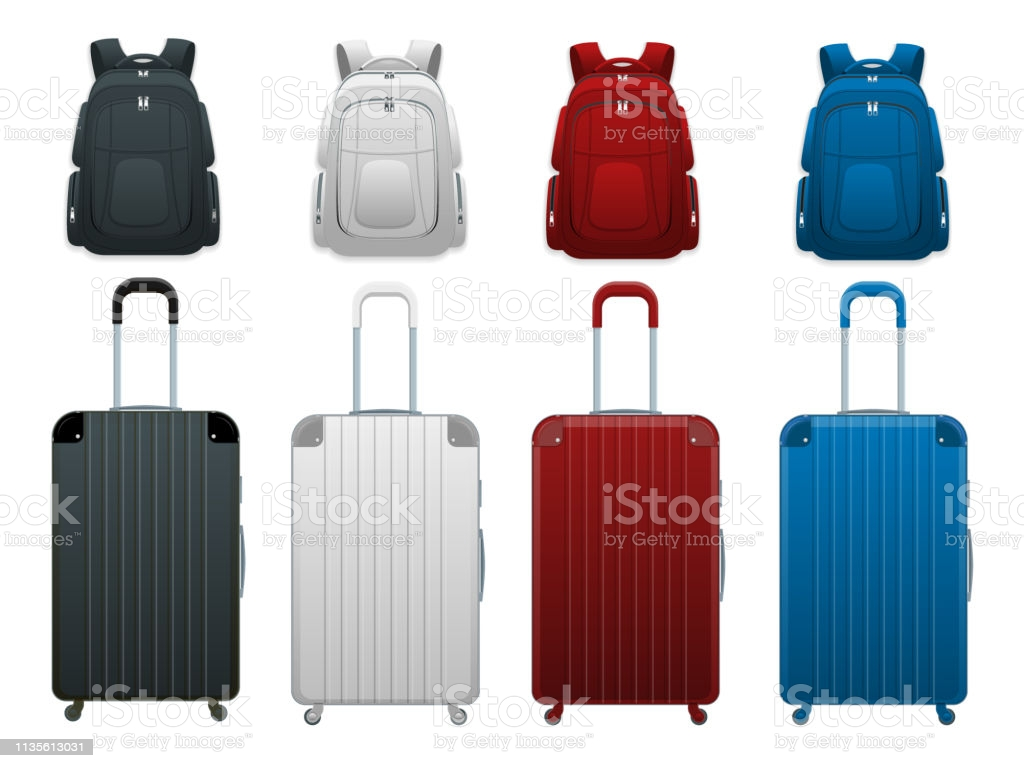backpack: (303, 29, 478, 268), (54, 29, 228, 263), (539, 32, 710, 269), (790, 34, 955, 264)
luggage: (41, 272, 252, 728), (524, 276, 727, 737), (770, 278, 973, 733), (286, 280, 488, 731)
